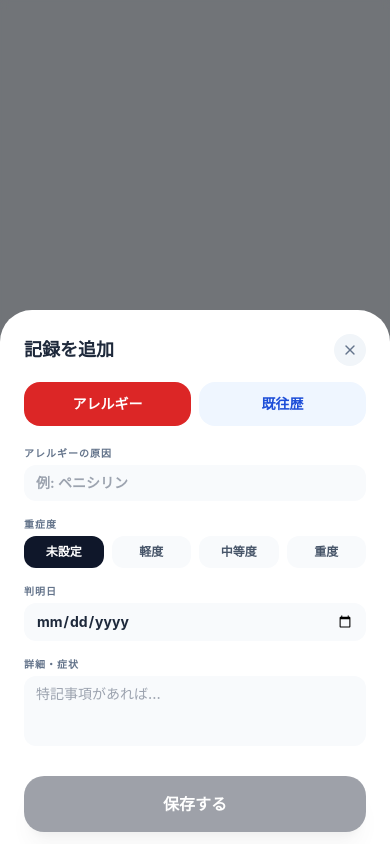
Test: MedicalRecordForm › disables save until a title is entered
Expected: the button "保存する" is disabled, [24, 776, 366, 832]
Type "ペニシリン" into the field labelled "アレルギーの原因" at (195, 483), box [24, 465, 366, 501]
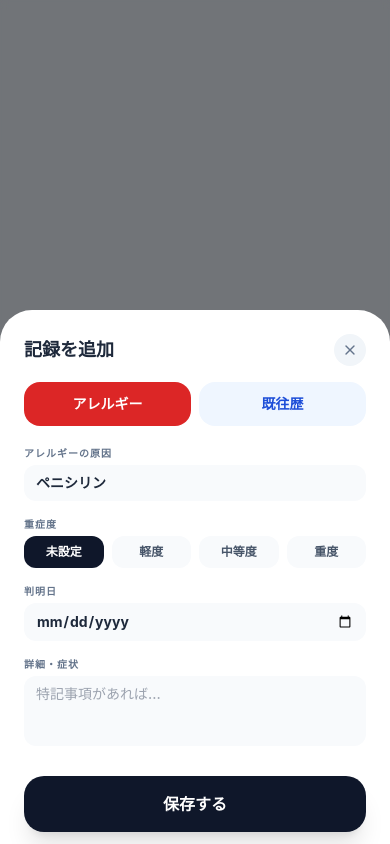
Expected: the button "保存する" is enabled, [24, 776, 366, 832]
